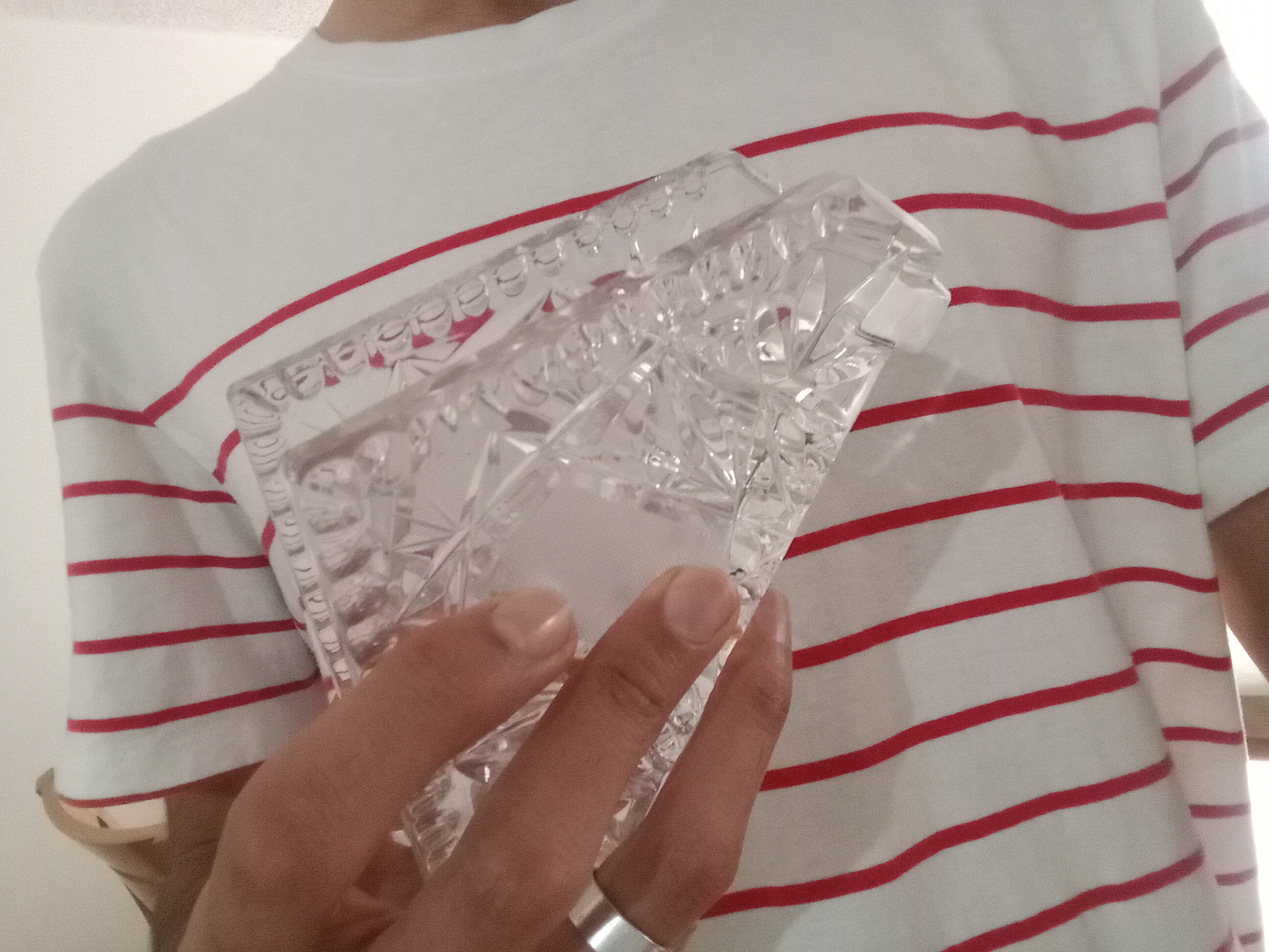Vidrio: (226, 146, 948, 686)
